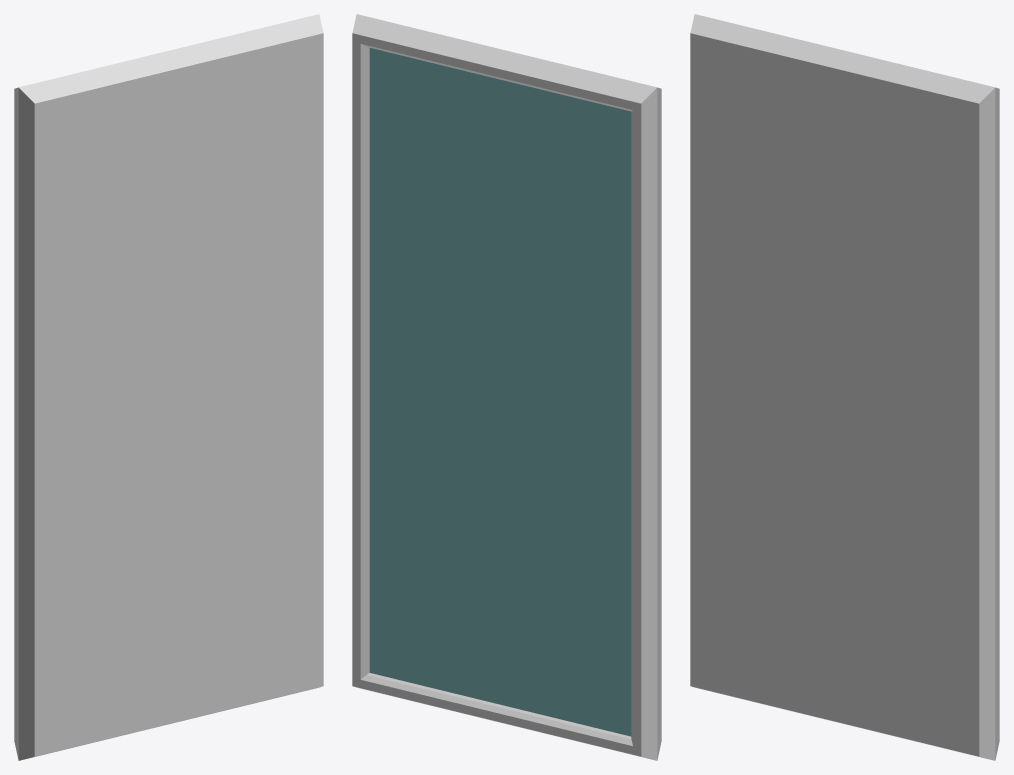
File: mirror.glb
3 renders of one model, left to right at view 1: azimuth 30°, elevation 25°; view 2: azimuth 150°, elevation 25°; view 3: azimuth 330°, elevation 25°, orthographic.
Visible parts, largest first — view 1: Mirror A; view 2: Mirror A; view 3: Mirror A.
Part boxes in pixels (bbox=[...]): Mirror A: bbox=[14, 14, 323, 760]; Mirror A: bbox=[352, 14, 661, 760]; Mirror A: bbox=[690, 14, 999, 760].
Size of the model in its own units: 0.4147 by 0.8876 by 0.0486.
